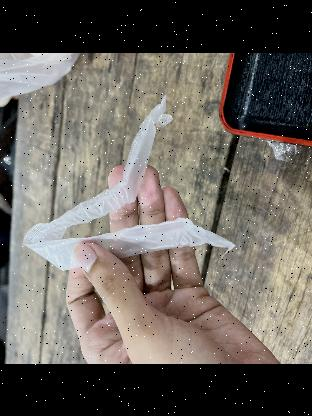Others: (16, 99, 228, 283)
